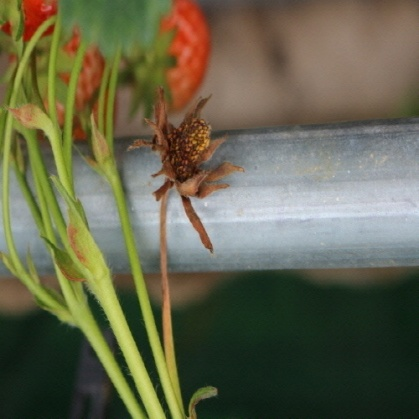Gray_Mold: (169, 165, 295, 331)
